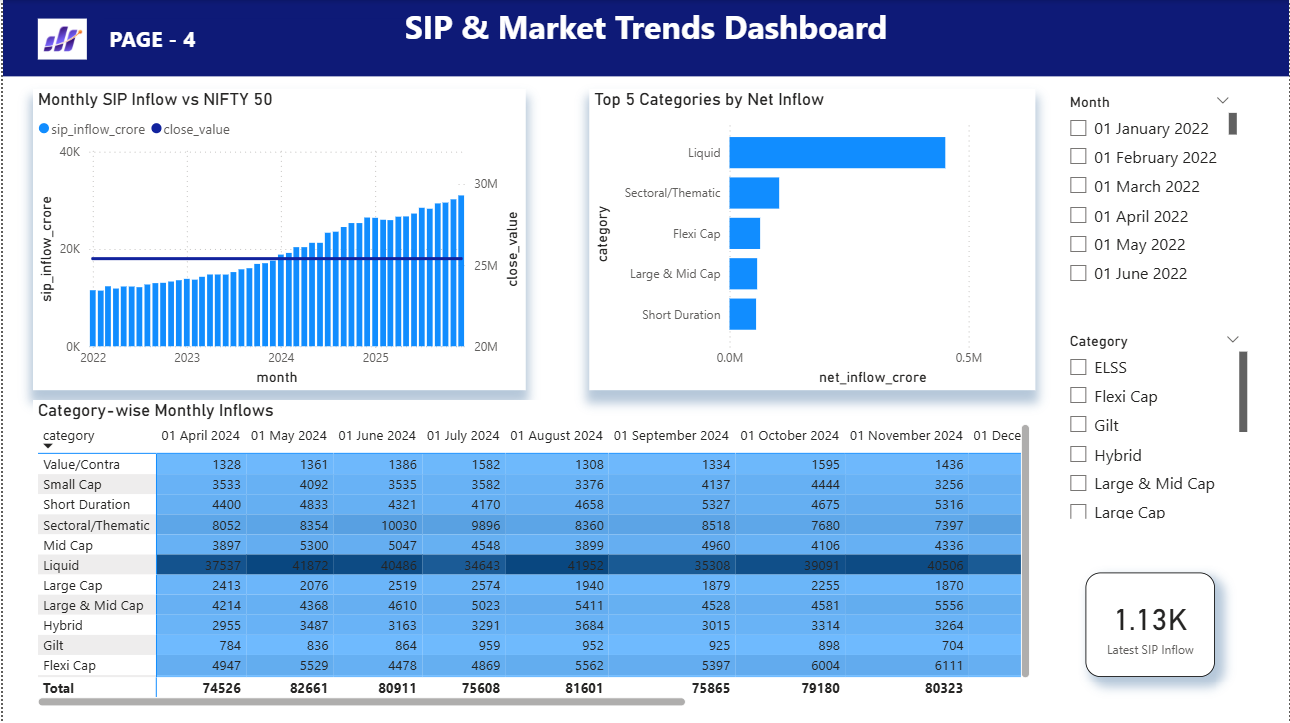

The dashboard page shown, as its layout file describes it:
{"tool":"powerbi","page":{"name":"SIP & Market Trends","canvas":[1280,720],"ordinal":3},"visuals":[{"type":"textbox","box":[0,0,1280,76],"z":0},{"type":"lineClusteredColumnComboChart","title":"Monthly SIP Inflow vs NIFTY 50","fields":{"Y":["Sum(04_monthly_sip_inflows.sip_inflow_crore)"],"Category":["04_monthly_sip_inflows.month"],"Y2":["Sum(10_benchmark_indices.close_value)"]},"box":[30,88,490,300],"z":1000},{"type":"pivotTable","title":"Category-wise Monthly Inflows","fields":{"Columns":["05_category_inflows.month"],"Rows":["05_category_inflows.category"],"Values":["Sum(05_category_inflows.net_inflow_crore)"]},"box":[30,398.6,997.1,310],"z":2000},{"type":"clusteredBarChart","title":"Top 5 Categories by Net Inflow","fields":{"Y":["Sum(05_category_inflows.net_inflow_crore)"],"Category":["05_category_inflows.category"]},"box":[582.9,88.6,444.3,300],"z":3000},{"type":"card","fields":{"Values":["Sum(04_monthly_sip_inflows.yoy_growth_pct)"]},"box":[1077.1,570,128.6,104.3],"z":4000},{"type":"slicer","fields":{"Values":["04_monthly_sip_inflows.month"]},"box":[1048.6,88.6,184.3,204.3],"z":4001},{"type":"slicer","fields":{"Values":["05_category_inflows.category"]},"box":[1048.6,325.7,194.3,195.7],"z":4002},{"type":"textbox","box":[100.2,19.2,299.1,38.4],"z":4003},{"type":"image","box":[30.2,13.7,59,50.8],"z":4004}]}

Visuals, with their boxes in screenshot pixels (x1, y1, x2, y2), scaled from the page's 1280x720 canvas onto the 1290x723 screenshot:
textbox: 0 0 1289 76
"Monthly SIP Inflow vs NIFTY 50" lineClusteredColumnComboChart: 30 88 524 390
"Category-wise Monthly Inflows" pivotTable: 30 400 1035 712
"Top 5 Categories by Net Inflow" clusteredBarChart: 587 89 1035 390
card - Sum(04_monthly_sip_inflows.yoy_growth_pct): 1086 572 1215 677
slicer - 04_monthly_sip_inflows.month: 1057 89 1243 294
slicer - 05_category_inflows.category: 1057 327 1253 524
textbox: 101 19 402 58
image: 30 14 90 65
